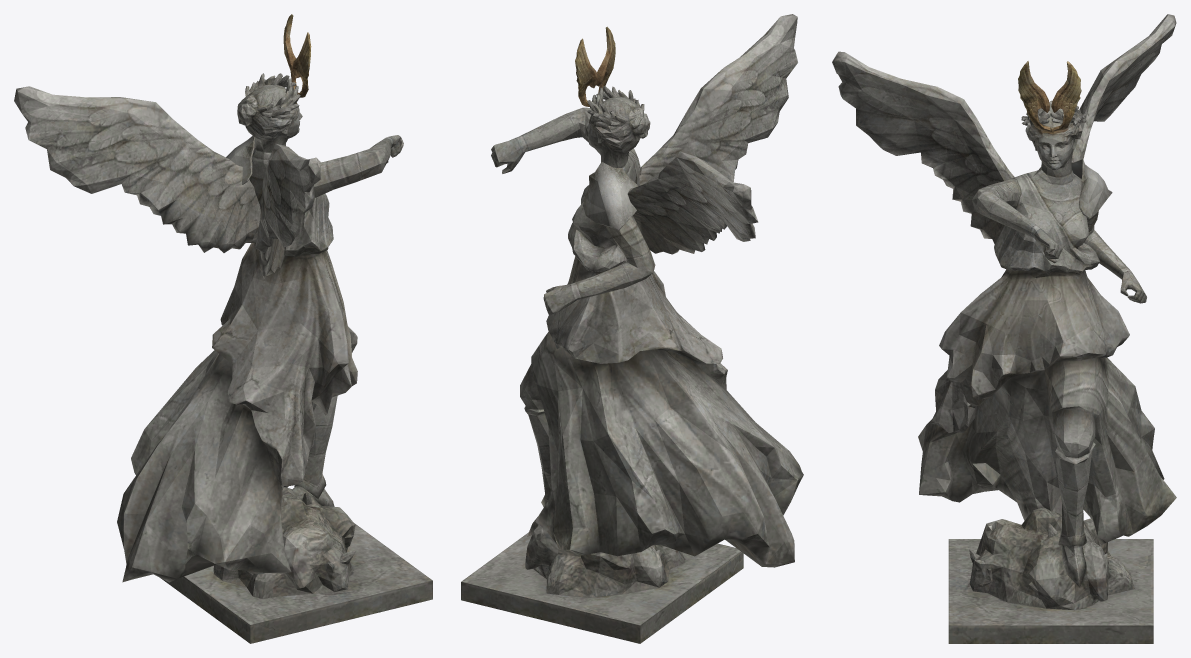
Rendered from bg_lut_lucastle_herostatue02_sm_artree.FBX.
3 views of the same model, side by side, from view 1: azimuth 30°, elevation 25°; view 2: azimuth 150°, elevation 25°; view 3: azimuth 270°, elevation 25° (orthographic). The views are drawn at different scales.
Visible parts, largest first — view 1: bg_lut_lucastle_herostatue02_sm_artree; view 2: bg_lut_lucastle_herostatue02_sm_artree; view 3: bg_lut_lucastle_herostatue02_sm_artree.
Part boxes in pixels (box(x1,y1,x2,y2)): bg_lut_lucastle_herostatue02_sm_artree: box(14, 14, 432, 643); bg_lut_lucastle_herostatue02_sm_artree: box(461, 14, 803, 643); bg_lut_lucastle_herostatue02_sm_artree: box(832, 14, 1176, 643).
Size of the model in its own units: 220 by 361 by 207.
